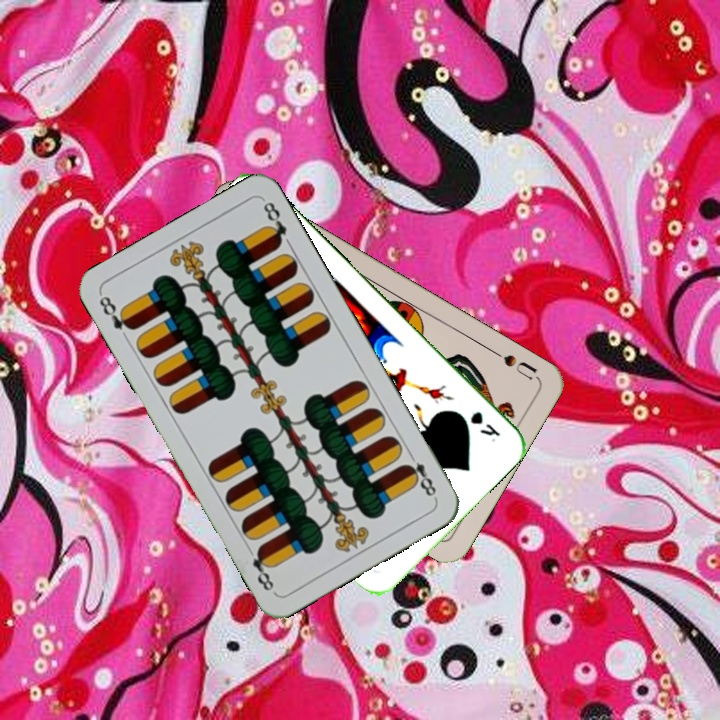E8: (95, 291, 138, 344), (400, 447, 439, 502)
GK: (466, 407, 504, 445)
SU: (487, 345, 541, 383)
